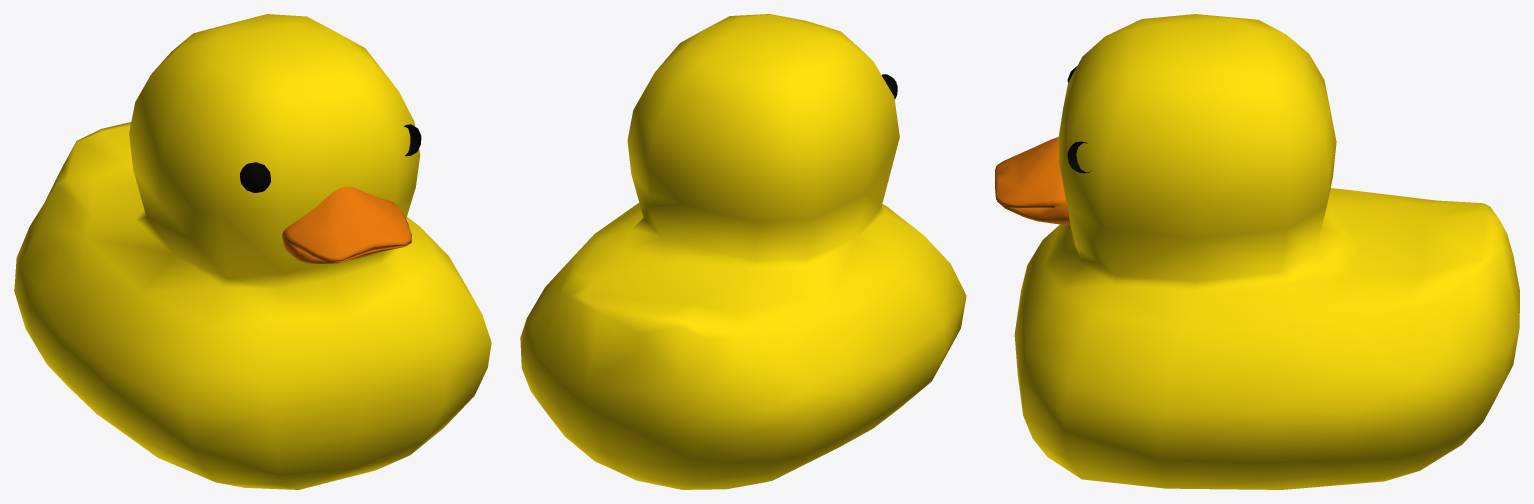
Rendered from duckling.glb.
3 views of the same model, side by side, from view 1: azimuth 30°, elevation 25°; view 2: azimuth 150°, elevation 25°; view 3: azimuth 270°, elevation 25° (orthographic). The views are drawn at different scales.
Visible parts, largest first — view 1: Duck; view 2: Duck; view 3: Duck.
Part boxes in pixels (box(x1,y1,x2,y2)): Duck: box(14, 14, 491, 489); Duck: box(520, 14, 966, 489); Duck: box(995, 14, 1519, 489).
Bounding box in the file's own units: 3.04 × 3.26 × 3.75.
